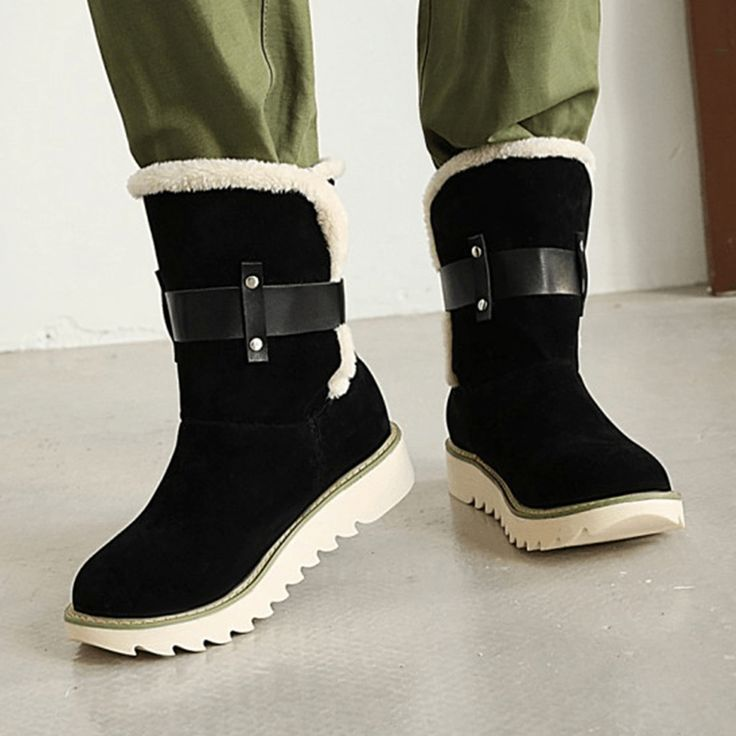gamuza: (72, 158, 675, 618)
